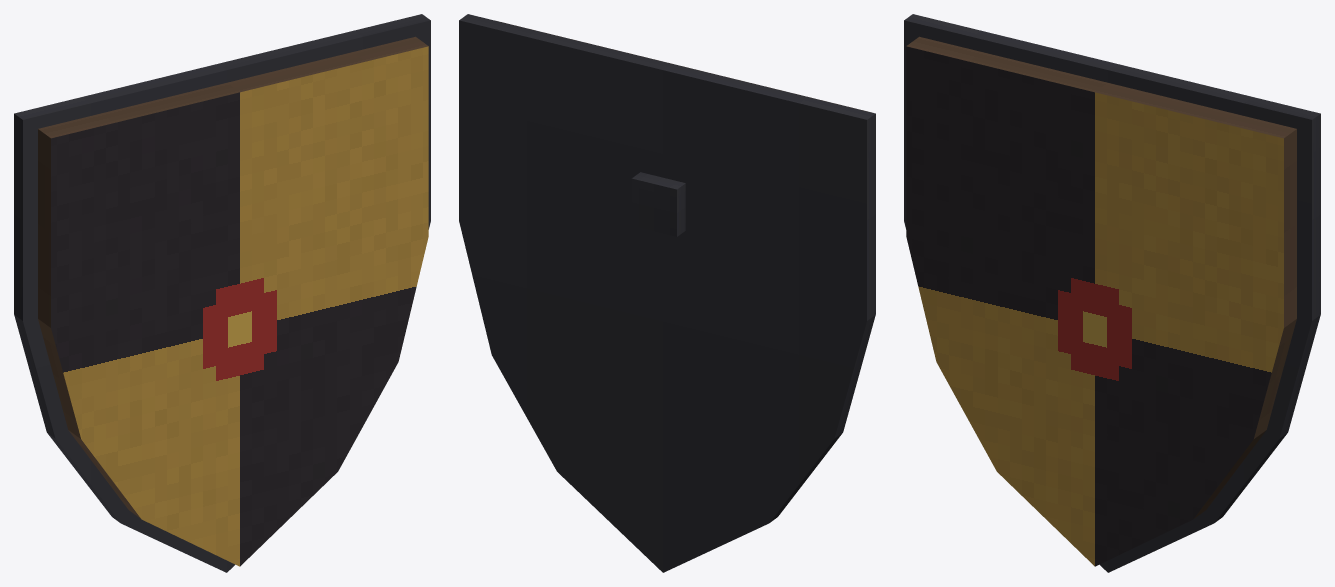
File: crest-shield-d.glb
3 views of the same model, side by side, from view 1: azimuth 30°, elevation 25°; view 2: azimuth 150°, elevation 25°; view 3: azimuth 330°, elevation 25° (orthographic).
Visible parts, largest first — view 1: crest-shield-d.001; view 2: crest-shield-d.001; view 3: crest-shield-d.001.
Part boxes in pixels (<box>): crest-shield-d.001: <box>14,14,430,572</box>; crest-shield-d.001: <box>459,14,875,572</box>; crest-shield-d.001: <box>904,14,1320,572</box>.
Size of the model in its own units: 0.54 by 0.636 by 0.07.
1 material, 1 textured.
